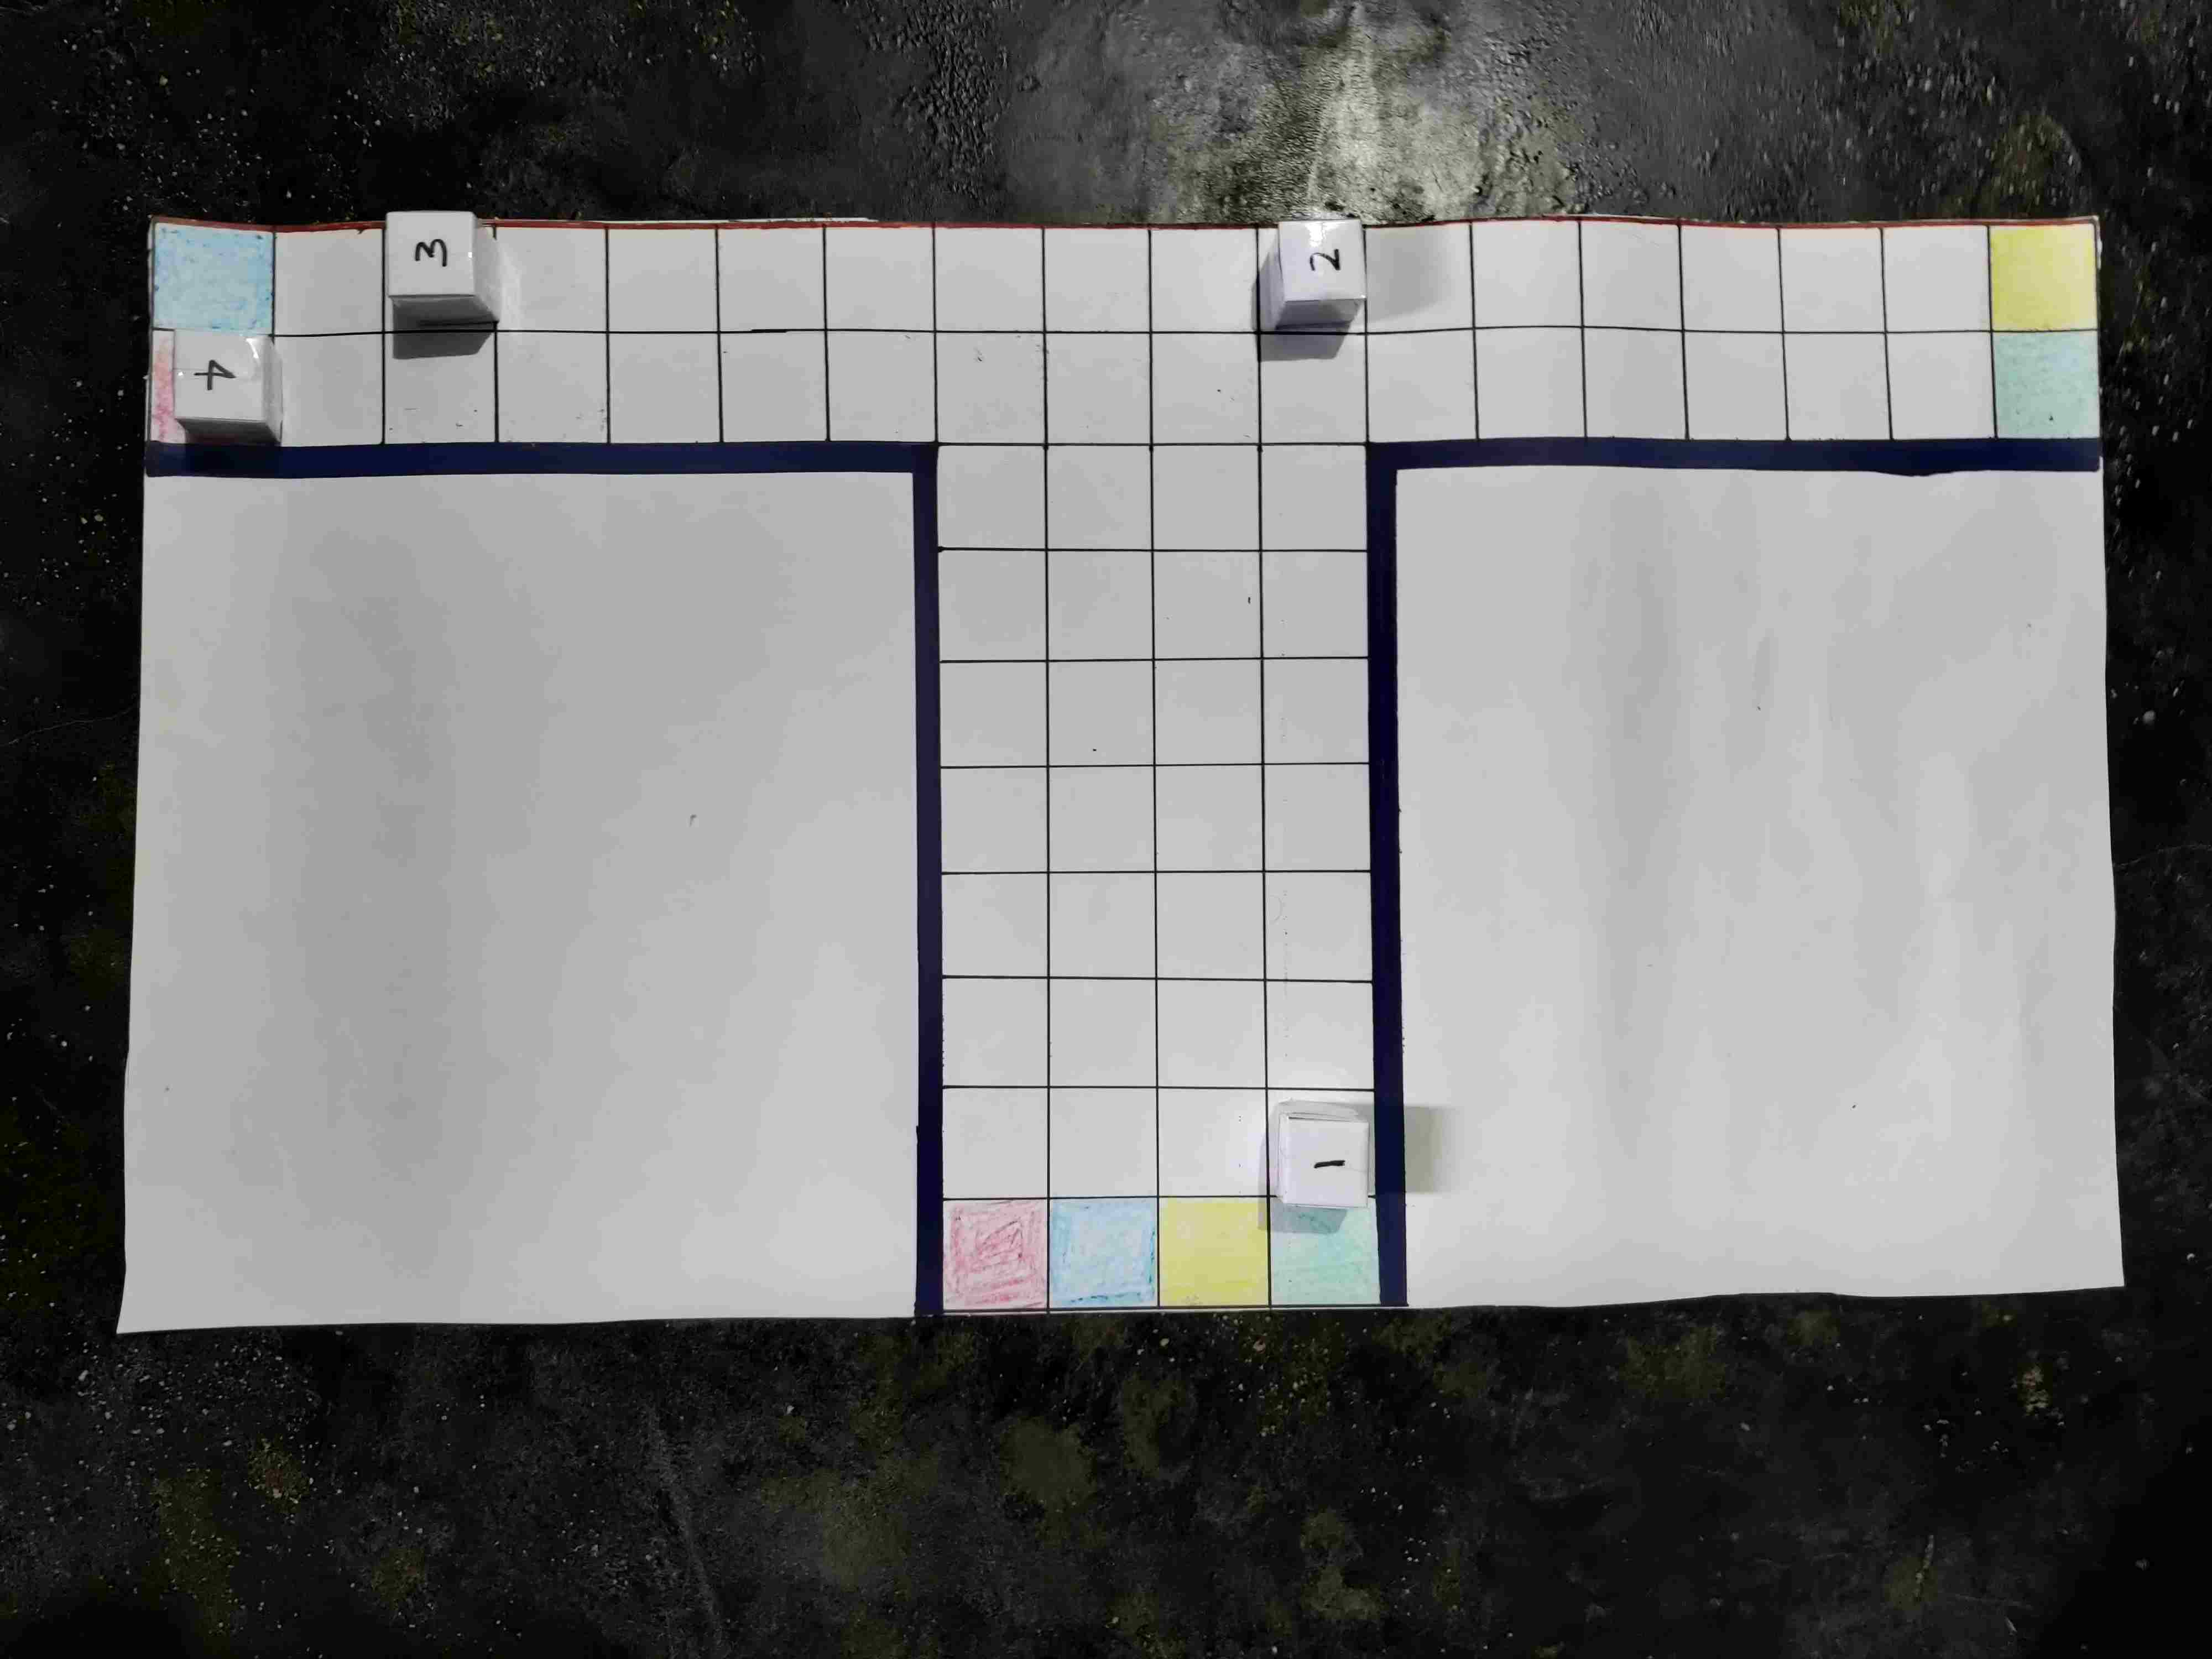arena: (171, 275, 2130, 1363)
bot: (1714, 1162, 1806, 1251), (563, 1136, 650, 1229), (1003, 1164, 1097, 1248), (1136, 1166, 1224, 1249)
